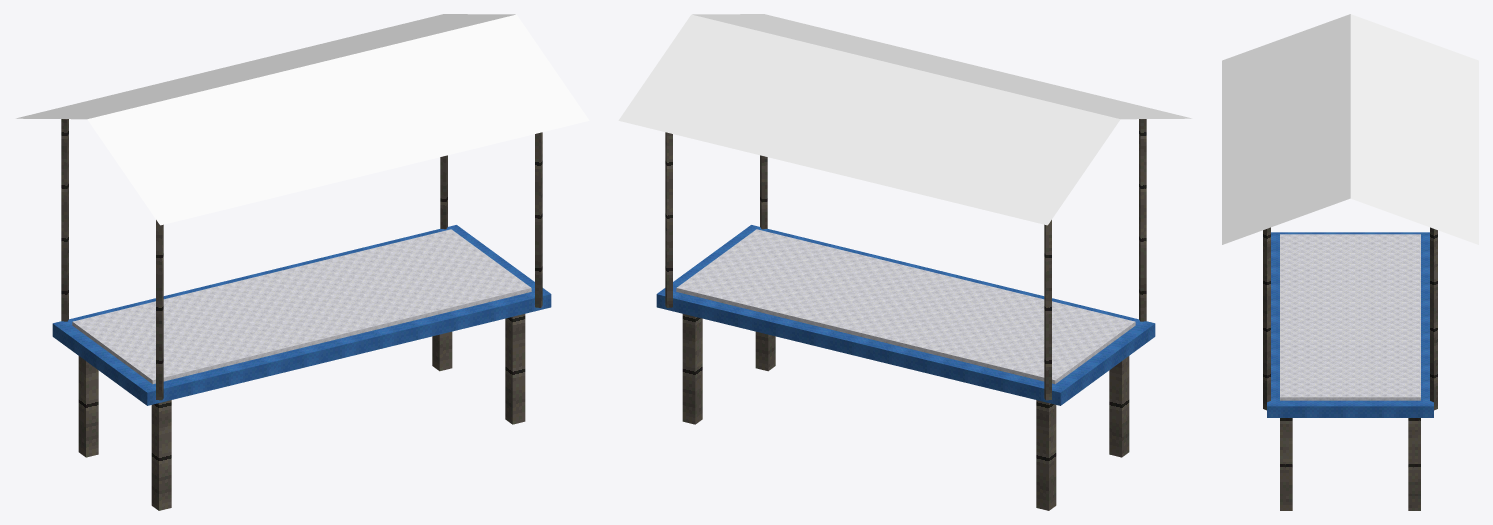
File: puesto_pescado.obj
3 views of the same model, side by side, from view 1: azimuth 30°, elevation 25°; view 2: azimuth 150°, elevation 25°; view 3: azimuth 270°, elevation 25° (orthographic). The views are drawn at different scales.
Parts seen in each view (by area): view 1: puesto_pescado; view 2: puesto_pescado; view 3: puesto_pescado.
Boxes of the visible parts, x1=… form: puesto_pescado: x1=16, y1=14, x2=589, y2=510; puesto_pescado: x1=618, y1=14, x2=1191, y2=510; puesto_pescado: x1=1222, y1=14, x2=1478, y2=510.
Size of the model in its own units: 3.4 by 2.8 by 2.
4 materials, 3 textured.
